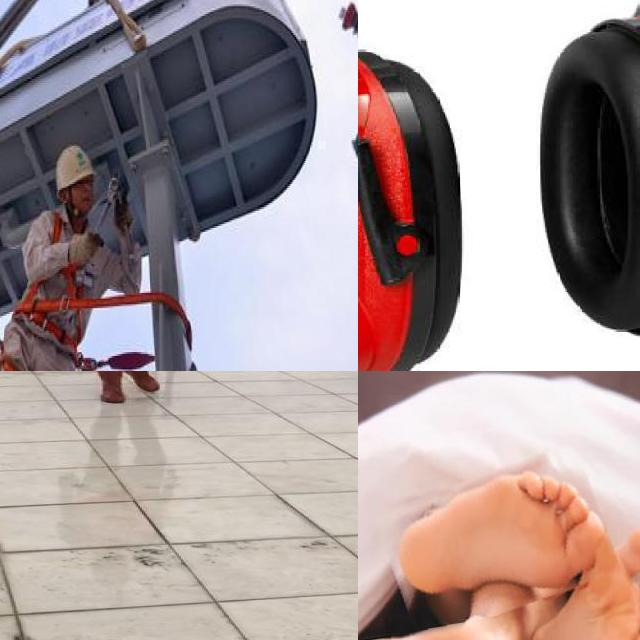Barefoots: (374, 449, 620, 636)
Ear-protection: (358, 0, 640, 371)
Harness: (4, 205, 94, 371)
boots: (88, 371, 126, 404), (124, 371, 163, 393)
